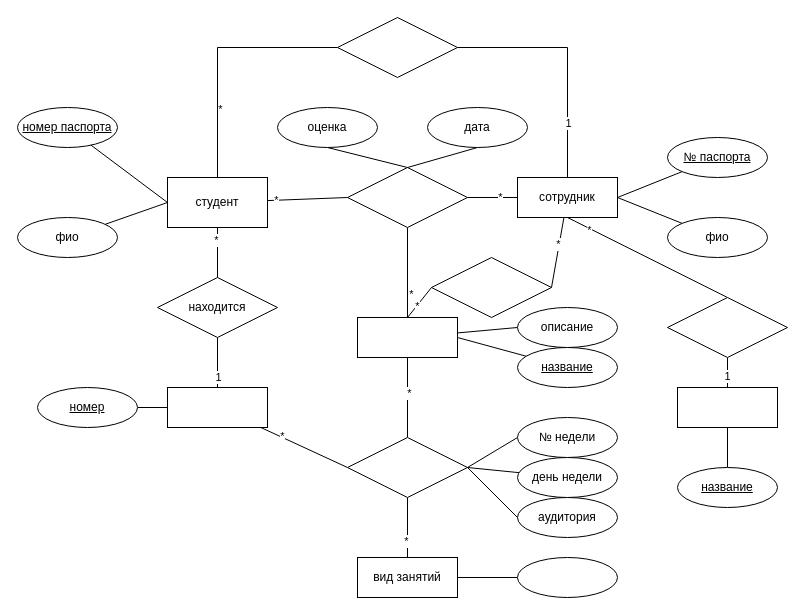
Some shapes in this 805 by 615 pixel diagram are drawn without their labels. The shapes that lost their labels are listed below. From the top down, each one's centre as x and y in pixels, then its label:
(x=397, y=47): контактирует
(x=407, y=197): сдаёт
(x=491, y=287): преподаёт
(x=407, y=337): предмет
(x=727, y=327): занимает
(x=217, y=407): группа
(x=727, y=407): должность
(x=407, y=467): проходит
(x=567, y=577): вид
